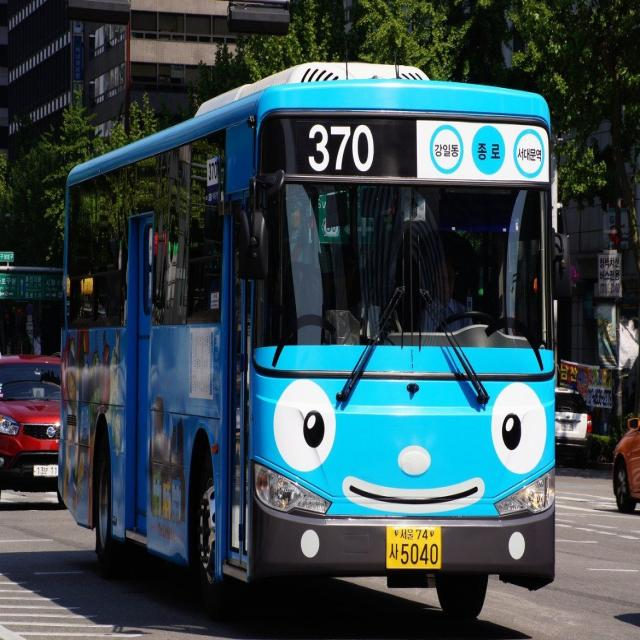bus-number: (306, 121, 376, 173)
